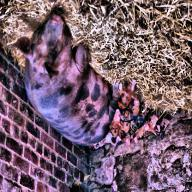boar: (11, 12, 170, 150)
